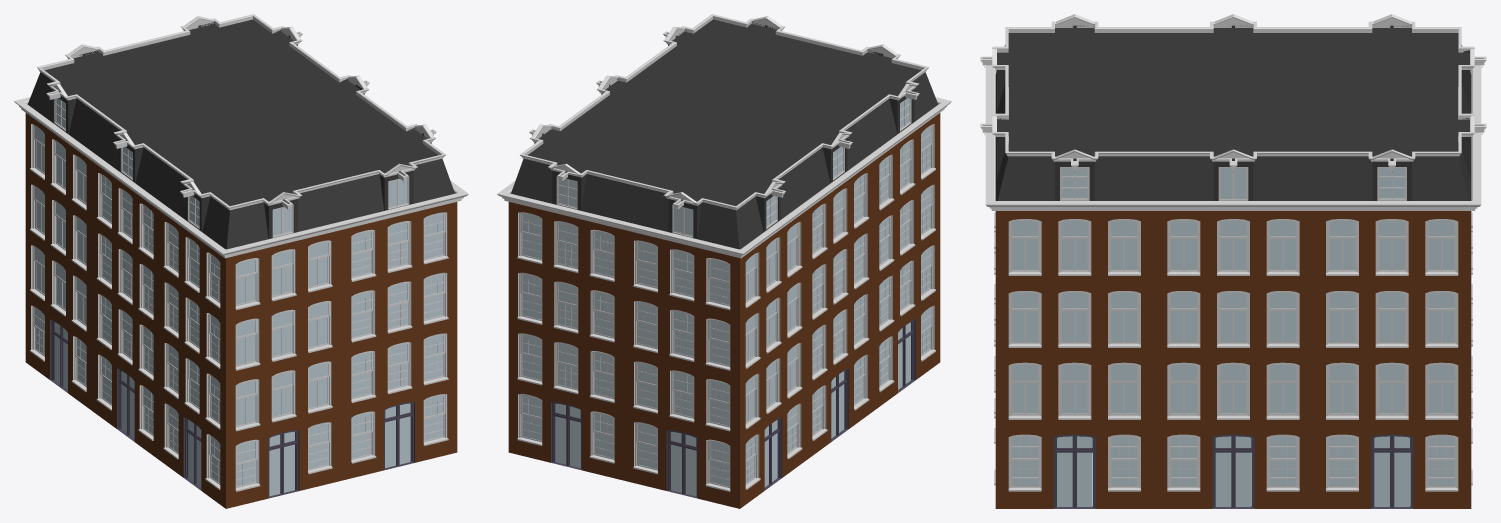
Rendered from 3x2_Residential.fbx.
3 renders of one model, left to right at view 1: azimuth 30°, elevation 25°; view 2: azimuth 150°, elevation 25°; view 3: azimuth 270°, elevation 25°, orthographic. The views are drawn at different scales.
Visible parts, largest first — view 1: 3x2 Residential; view 2: 3x2 Residential; view 3: 3x2 Residential.
Boxes of the visible parts, bbox=[...] form: 3x2 Residential: bbox=[14, 14, 468, 508]; 3x2 Residential: bbox=[497, 14, 951, 508]; 3x2 Residential: bbox=[980, 14, 1486, 508].
Size of the model in its own units: 13.14 by 15 by 19.14.
